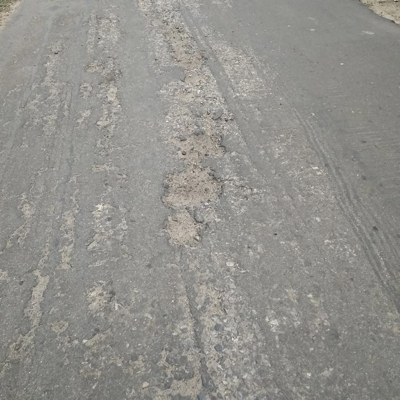pothole: (159, 165, 227, 209), (164, 27, 212, 88), (168, 132, 230, 163), (163, 208, 207, 251), (22, 268, 53, 328), (165, 373, 206, 399), (85, 283, 114, 314)
